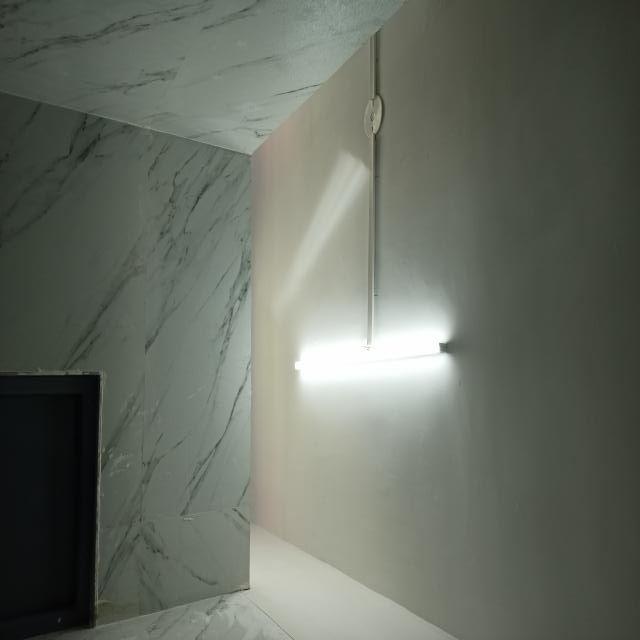fluorescent tube: (291, 333, 452, 382)
